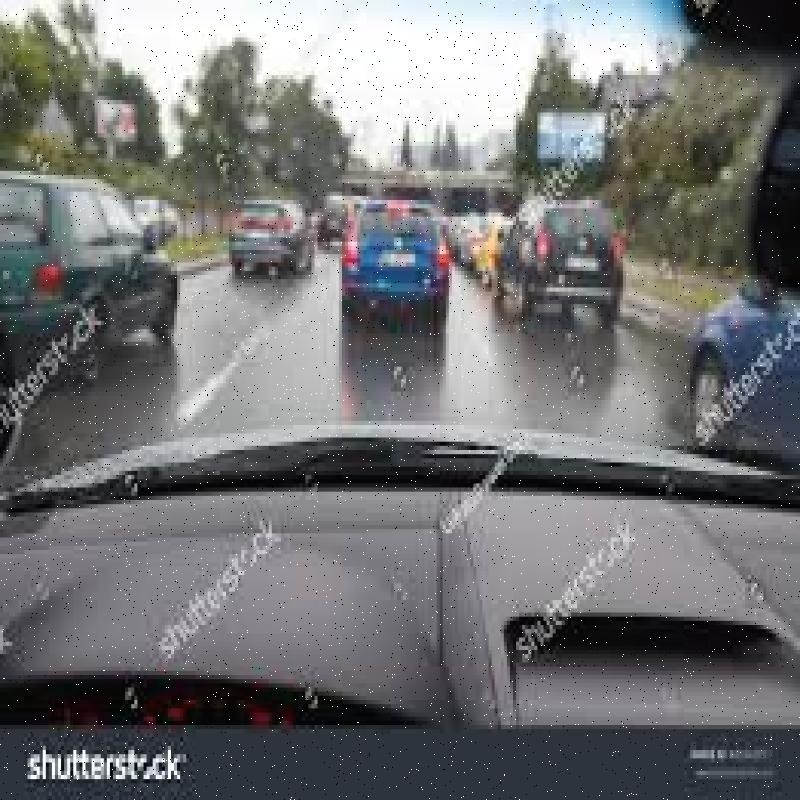car: (500, 164, 622, 340), (335, 163, 453, 338)
